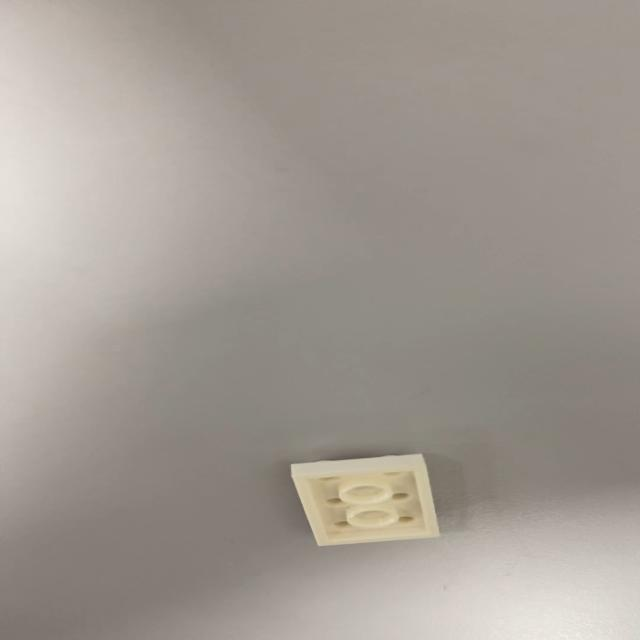C3x2x0: (284, 452, 437, 546)
